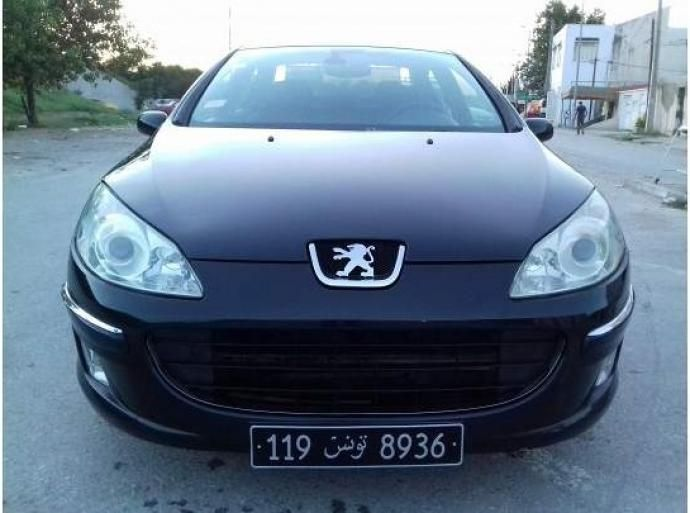LP: (248, 422, 467, 468)
